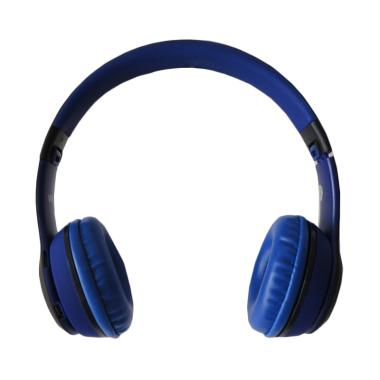Headphone: (29, 35, 349, 353)
